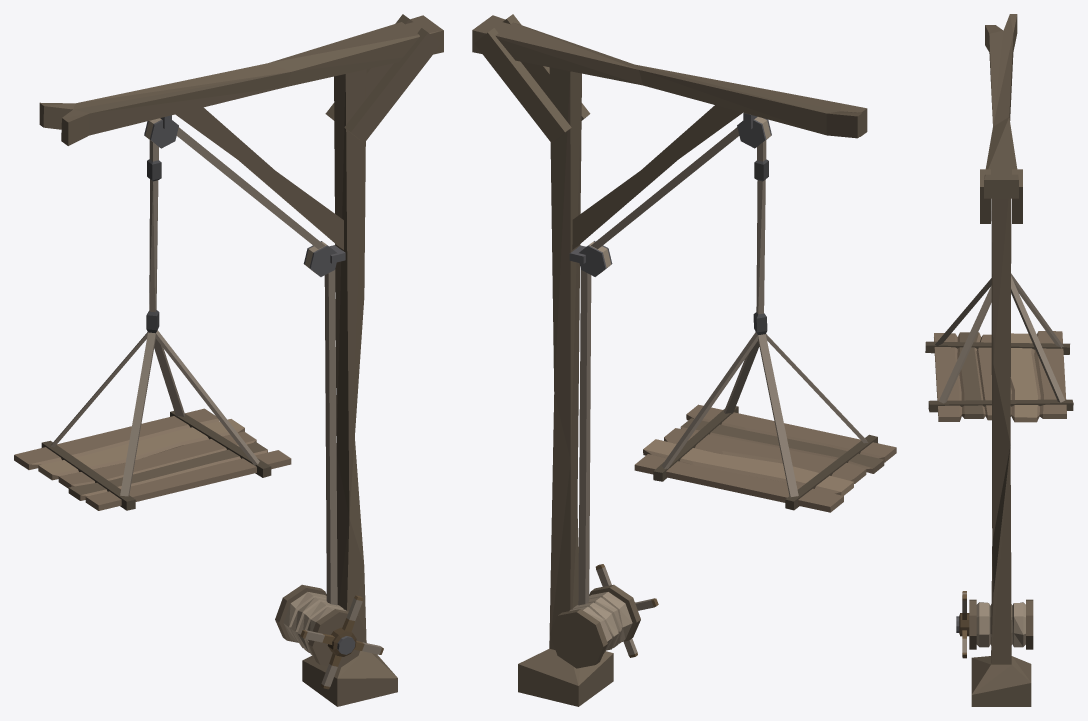
File: SM_Prop_Crane_02.glb
The picture shows the model from 3 angles, left to right: view 1: azimuth 30°, elevation 25°; view 2: azimuth 150°, elevation 25°; view 3: azimuth 270°, elevation 25°; orthographic projection. The views are drawn at different scales.
Visible parts, largest first — view 1: SM_Prop_Crane_02_part00; view 2: SM_Prop_Crane_02_part00; view 3: SM_Prop_Crane_02_part00.
Boxes of the visible parts, x1,y1,x2,y2 form: SM_Prop_Crane_02_part00: [14, 14, 443, 706]; SM_Prop_Crane_02_part00: [472, 14, 896, 706]; SM_Prop_Crane_02_part00: [925, 14, 1073, 706].
Bounding box in the file's own units: 4.51 × 7.29 × 1.76.
Materials: 1 (1 with a texture image).
